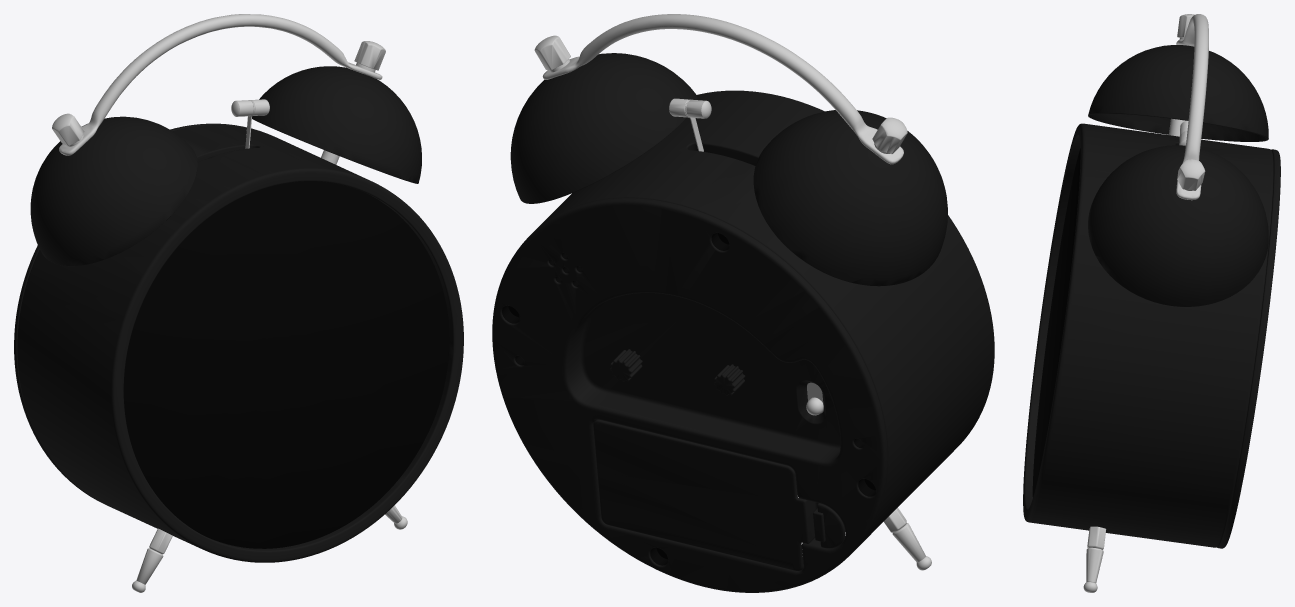
File: dimensiva-iconic-alarm-clock-by-karlsson.optimized.glb
3 renders of one model, left to right at view 1: azimuth 30°, elevation 25°; view 2: azimuth 150°, elevation 25°; view 3: azimuth 270°, elevation 25°, orthographic. The views are drawn at different scales.
Visible parts, largest first — view 1: Iconic Alarm Clock; view 2: Iconic Alarm Clock; view 3: Iconic Alarm Clock.
Boxes of the visible parts, bbox=[...] form: Iconic Alarm Clock: bbox=[14, 14, 463, 592]; Iconic Alarm Clock: bbox=[492, 14, 994, 592]; Iconic Alarm Clock: bbox=[1023, 14, 1280, 592].
Bounding box in the file's own units: 0.115 × 0.1501 × 0.0704.
2 materials, 2 textured.
